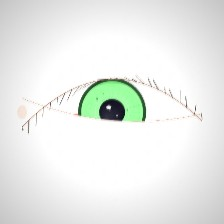hemorrhage_spot: (43, 83, 139, 159)
